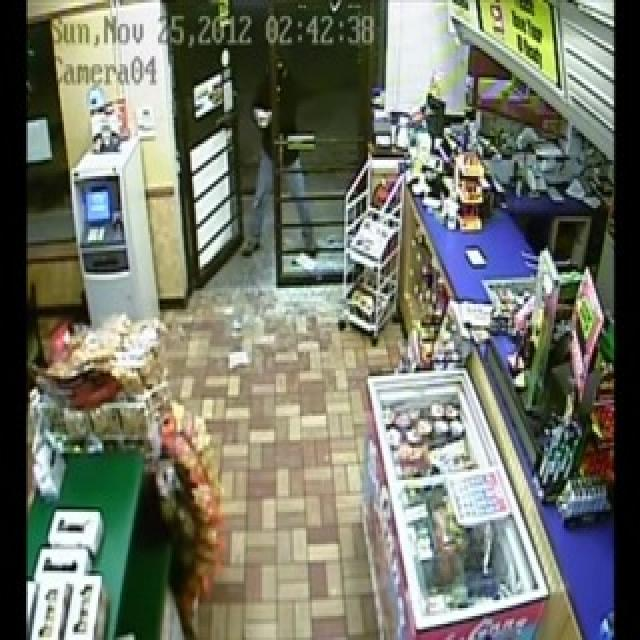thief: (252, 51, 316, 249)
